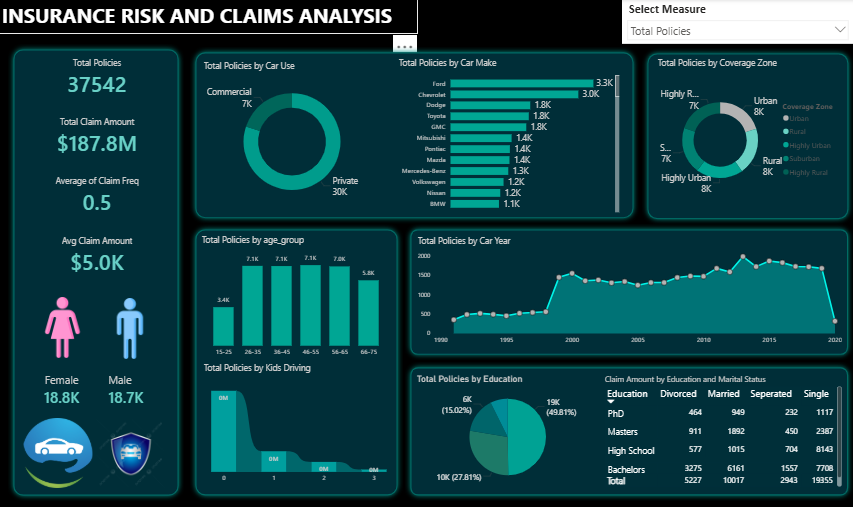

The page's visual inventory and layout, read from the dashboard file:
{"tool":"powerbi","page":{"name":"Page 1","canvas":[1600,951],"ordinal":0},"visuals":[{"type":"textbox","box":[0,0,783.6,65.5],"z":0},{"type":"shape","box":[16.8,84.2,329.5,855.5],"z":1000},{"type":"cardVisual","fields":{"Data":["insurance_data_car.Total Policies","insurance_data_car.Total Claim Amount","Avg(insurance_data_car.Claim Freq)","insurance_data_car.Avg Claim Amount"]},"box":[48.6,91.6,270,460],"z":2000},{"type":"cardVisual","fields":{"Data":["insurance_data_car.Female Count","insurance_data_car.Male Count"]},"box":[48.6,675.1,259.9,110.3],"z":3000},{"type":"image","box":[187,559.2,115.9,114.1],"z":4000},{"type":"image","box":[61.7,557.3,114.1,114.1],"z":5000},{"type":"slicer","fields":{"Values":["Select Measure.Select Measure"]},"box":[1166.3,0,434.3,84.2],"z":6000},{"type":"shape","box":[357.9,90.3,840.2,330.6],"z":7000},{"type":"donutChart","fields":{"Y":["insurance_data_car.Total Policies"],"Category":["insurance_data_car.Car Use"]},"box":[378.2,114.2,340.7,284.6],"z":8000},{"type":"clusteredBarChart","fields":{"Y":["insurance_data_car.Total Policies"],"Category":["insurance_data_car.Car Make"]},"box":[743.2,108.6,423.1,295.8],"z":9000},{"type":"shape","box":[1203.6,91.1,396.4,330.4],"z":10000},{"type":"donutChart","fields":{"Y":["insurance_data_car.Total Policies"],"Category":["insurance_data_car.Coverage Zone"]},"box":[1228.1,108.6,355.7,290.2],"z":11000},{"type":"shape","box":[357.9,421,398.8,518.1],"z":12000},{"type":"clusteredColumnChart","fields":{"Y":["insurance_data_car.Total Policies"],"Category":["insurance_data_car.age_group"]},"box":[375.1,440.4,364.7,239.1],"z":13000},{"type":"ribbonChart","fields":{"Y":["insurance_data_car.Total Policies"],"Category":["insurance_data_car.Kids Driving"]},"box":[378.5,679.6,366.5,235.7],"z":14000},{"type":"shape","box":[760.4,421.5,839.6,255],"z":15000},{"type":"areaChart","fields":{"Y":["insurance_data_car.Total Policies"],"Category":["insurance_data_car.Car Year"]},"box":[779,440.9,804.2,214.2],"z":16000},{"type":"shape","box":[760.4,679.6,839.6,259.8],"z":17000},{"type":"pieChart","fields":{"Y":["insurance_data_car.Total Policies"],"Category":["insurance_data_car.Education"]},"box":[777.6,700.2,351,218.5],"z":18000},{"type":"pivotTable","title":"Claim Amount by Education and Marital Status","fields":{"Rows":["insurance_data_car.Education"],"Columns":["insurance_data_car.Marital Status"],"Values":["insurance_data_car.Total Policies"]},"box":[1128.6,700.2,454.2,218.5],"z":19000},{"type":"image","box":[44.7,784.5,130.8,130.8],"z":19002},{"type":"image","box":[175.5,784.5,142.8,134.2],"z":19003}]}

Visuals, with their boxes in screenshot pixels (x1, y1, x2, y2), scaled from the page's 1600x951 canvas onto the 853x507 screenshot:
textbox: BBox(0, 0, 418, 35)
shape: BBox(9, 45, 185, 501)
cardVisual - insurance_data_car.Total Policies x insurance_data_car.Total Claim Amount: BBox(26, 49, 170, 294)
cardVisual - insurance_data_car.Female Count x insurance_data_car.Male Count: BBox(26, 360, 164, 419)
image: BBox(100, 298, 161, 359)
image: BBox(33, 297, 94, 358)
slicer - Select Measure.Select Measure: BBox(622, 0, 852, 45)
shape: BBox(191, 48, 639, 224)
donutChart - insurance_data_car.Total Policies x insurance_data_car.Car Use: BBox(202, 61, 383, 213)
clusteredBarChart - insurance_data_car.Total Policies x insurance_data_car.Car Make: BBox(396, 58, 622, 216)
shape: BBox(642, 49, 852, 225)
donutChart - insurance_data_car.Total Policies x insurance_data_car.Coverage Zone: BBox(655, 58, 844, 213)
shape: BBox(191, 224, 403, 501)
clusteredColumnChart - insurance_data_car.Total Policies x insurance_data_car.age_group: BBox(200, 235, 394, 362)
ribbonChart - insurance_data_car.Total Policies x insurance_data_car.Kids Driving: BBox(202, 362, 397, 488)
shape: BBox(405, 225, 852, 361)
areaChart - insurance_data_car.Total Policies x insurance_data_car.Car Year: BBox(415, 235, 844, 349)
shape: BBox(405, 362, 852, 501)
pieChart - insurance_data_car.Total Policies x insurance_data_car.Education: BBox(415, 373, 602, 490)
"Claim Amount by Education and Marital Status" pivotTable: BBox(602, 373, 844, 490)
image: BBox(24, 418, 94, 488)
image: BBox(94, 418, 170, 490)
